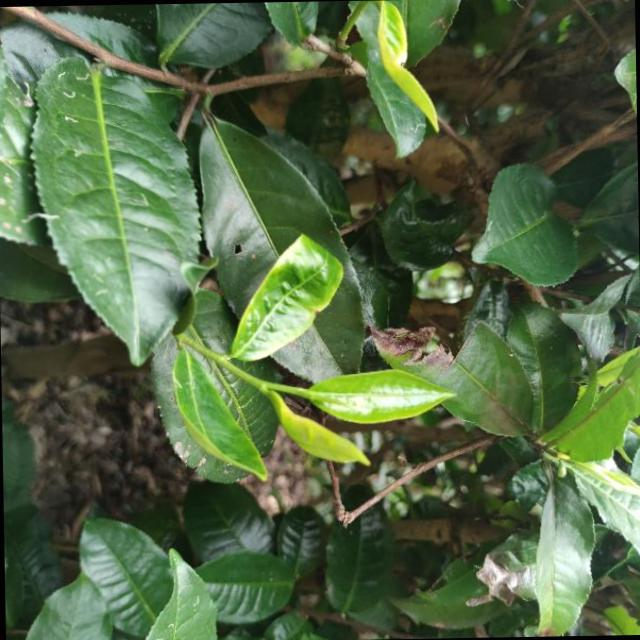Stem: (256, 380, 265, 388)
